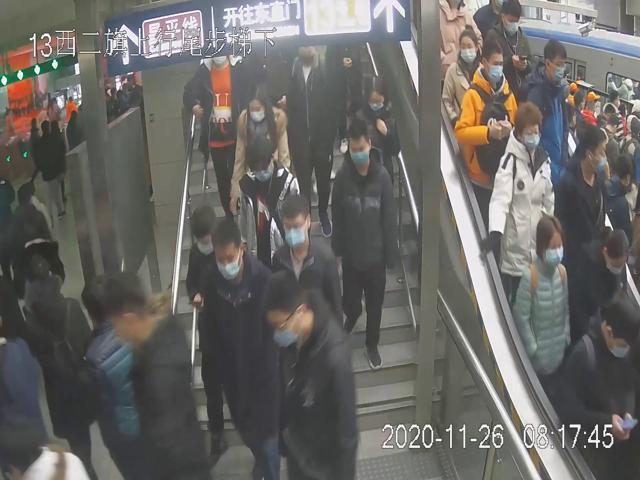person: (261, 263, 361, 479), (329, 117, 399, 374), (210, 216, 276, 456), (480, 101, 555, 301), (268, 193, 345, 342), (185, 205, 232, 440), (507, 214, 570, 386), (453, 35, 516, 190), (516, 39, 575, 195), (223, 79, 290, 207), (232, 136, 297, 264), (352, 72, 406, 180)
